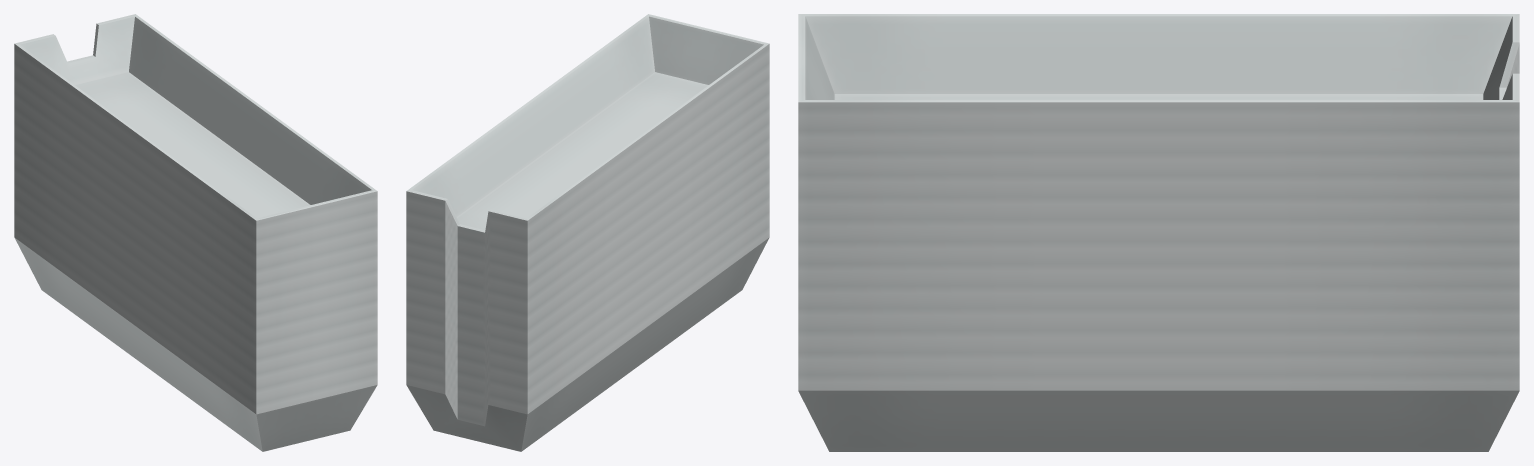
Rendered from jsf_PlasticTray_01_Set.fbx.
3 renders of one model, left to right at view 1: azimuth 30°, elevation 25°; view 2: azimuth 150°, elevation 25°; view 3: azimuth 270°, elevation 25°, orthographic. The views are drawn at different scales.
Parts seen in each view (by area): view 1: jsf_PlasticTray_01_Set; view 2: jsf_PlasticTray_01_Set; view 3: jsf_PlasticTray_01_Set.
Part boxes in pixels (box(x1,y1,x2,y2)): jsf_PlasticTray_01_Set: box(14, 14, 377, 451); jsf_PlasticTray_01_Set: box(406, 14, 769, 451); jsf_PlasticTray_01_Set: box(798, 14, 1519, 451).
Bounding box in the file's own units: 5.08 × 9.72 × 17.55.
